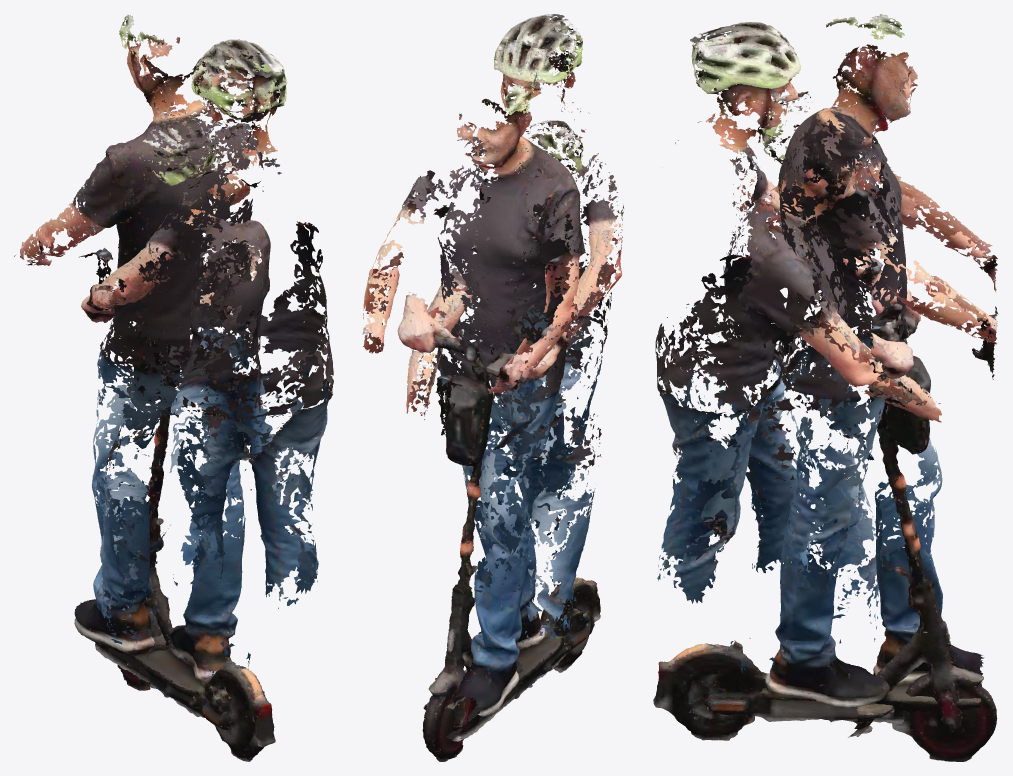
The model's file is vehicle-scooter.glb.
The picture shows the model from 3 angles, left to right: view 1: azimuth 30°, elevation 25°; view 2: azimuth 150°, elevation 25°; view 3: azimuth 270°, elevation 25°; orthographic projection. The views are drawn at different scales.
Visible parts, largest first — view 1: Object_2, Object_3, Object_4; view 2: Object_2, Object_3, Object_4; view 3: Object_2, Object_3, Object_4.
Boxes of the visible parts, x1,y1,x2,y2 form: Object_2: (14,15,275,761); Object_3: (81,39,333,690); Object_4: (98,112,270,676); Object_2: (362,72,600,741); Object_3: (397,14,623,761); Object_4: (406,120,601,651); Object_2: (653,14,998,740); Object_3: (655,22,997,761); Object_4: (723,91,941,673).
Size of the model in its own units: 19071 by 61833 by 26342.
Materials: 1 (1 with a texture image).
